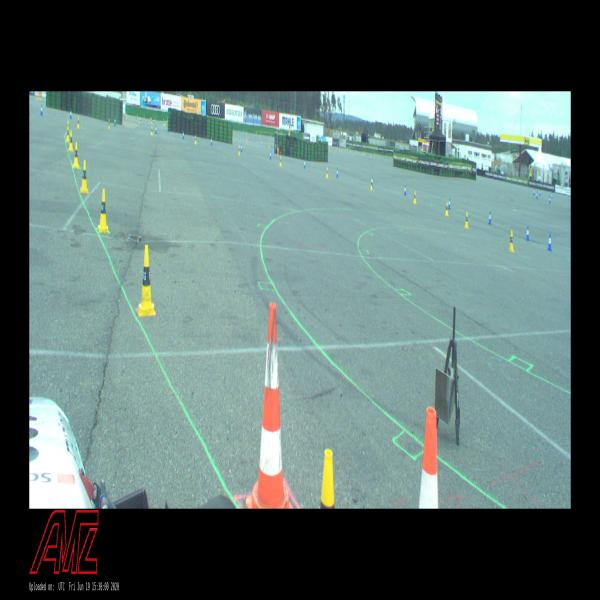blue_cone: (548, 233, 552, 250), (526, 225, 530, 240), (488, 211, 491, 225), (40, 103, 43, 115), (448, 197, 451, 209), (69, 108, 72, 119), (303, 159, 306, 169), (404, 184, 406, 195), (155, 124, 157, 134), (336, 168, 338, 178), (114, 117, 116, 126), (270, 151, 272, 159), (210, 138, 212, 146), (372, 177, 373, 187), (183, 131, 184, 139), (241, 143, 242, 151)
large_orange_cone: (246, 303, 293, 508), (418, 406, 439, 509)
yellow_cone: (138, 246, 156, 316), (318, 449, 337, 508), (97, 188, 109, 233), (80, 159, 89, 194), (73, 141, 79, 169), (509, 231, 515, 252), (68, 131, 74, 152), (66, 125, 70, 142), (464, 212, 468, 228), (66, 119, 70, 134), (76, 116, 80, 129), (445, 202, 448, 216), (413, 190, 416, 203), (279, 156, 282, 167), (370, 179, 373, 190), (326, 167, 328, 179), (238, 145, 240, 156), (195, 135, 197, 145), (108, 119, 110, 129), (151, 126, 153, 136)
